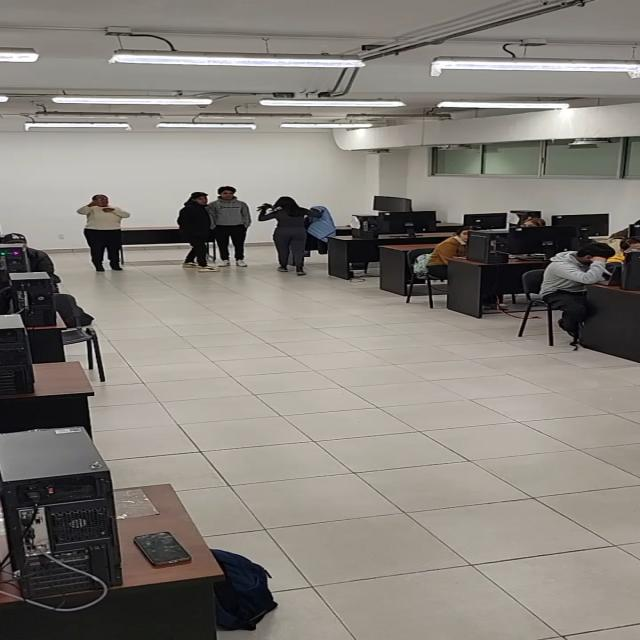Persona: (256, 196, 338, 277), (77, 194, 131, 273), (176, 192, 223, 273), (206, 186, 252, 268)
